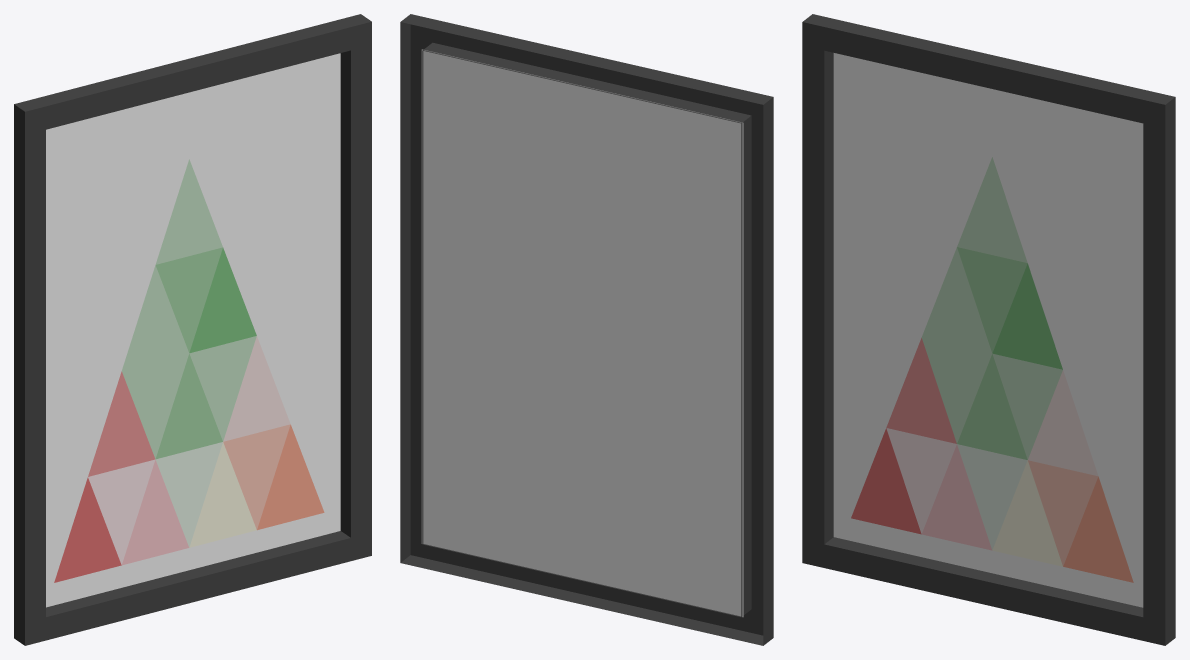
Rendered from Photo_Frame_M_06.fbx.
The picture shows the model from 3 angles, left to right: view 1: azimuth 30°, elevation 25°; view 2: azimuth 150°, elevation 25°; view 3: azimuth 330°, elevation 25°; orthographic projection.
Visible parts, largest first — view 1: Photo_Frame_M_06; view 2: Photo_Frame_M_06; view 3: Photo_Frame_M_06.
Part boxes in pixels (x1,y1,x2,y2): Photo_Frame_M_06: [14, 14, 371, 645]; Photo_Frame_M_06: [400, 14, 773, 645]; Photo_Frame_M_06: [802, 14, 1175, 645].
Size of the model in its own units: 55.75 by 80.59 by 4.46.
Materials: 1 (1 with a texture image).
